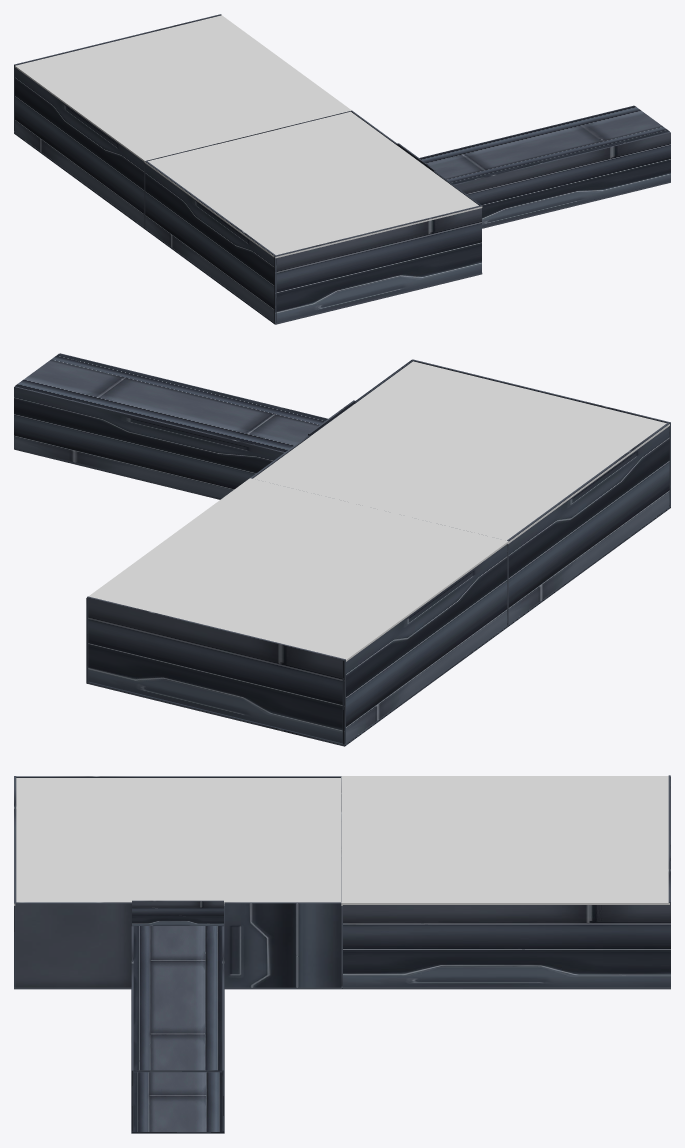
File: Facility level part 02.fbx
3 renders of one model, top to bottom at view 1: azimuth 30°, elevation 25°; view 2: azimuth 150°, elevation 25°; view 3: azimuth 270°, elevation 25°, orthographic. The views are drawn at different scales.
Parts seen in each view (by area): view 1: Cube.010, Cube.006, Cube.003, Cube.030, Cube.002, Cube.004, Cube.032, Cube, Cube.015; view 2: Cube.010, Cube.006, Cube.015, Cube.031, Cube.002, Cube.004, Cube.032, Cube.008, Cube.003; view 3: Cube.010, Cube.006, Cube.009, Cube.005, Cube.032, Cube.024, Cube.007, Cube.008, Cube, Cube.002, Cube.030, Cube.031 (+1 smaller).
Boxes of the visible parts, x1,y1,x2,y2 form: Cube.010: (15, 15, 351, 161); Cube.006: (144, 111, 482, 258); Cube.003: (274, 205, 481, 322); Cube.030: (454, 132, 670, 226); Cube.002: (145, 160, 276, 323); Cube.004: (14, 67, 144, 226); Cube.032: (420, 106, 669, 184); Cube: (144, 228, 482, 324); Cube.015: (14, 14, 221, 131); Cube.010: (88, 478, 508, 661); Cube.006: (253, 361, 669, 543); Cube.015: (87, 596, 345, 743); Cube.031: (14, 386, 284, 498); Cube.002: (507, 422, 669, 624); Cube.004: (342, 544, 507, 744); Cube.032: (15, 353, 327, 451); Cube.008: (86, 625, 507, 746); Cube.003: (412, 359, 670, 506); Cube.010: (341, 776, 669, 904); Cube.006: (14, 778, 342, 905); Cube.009: (343, 902, 670, 987); Cube.005: (15, 902, 341, 987); Cube.032: (133, 926, 222, 1072); Cube.024: (131, 987, 224, 1133); Cube.007: (132, 900, 223, 926); Cube.008: (342, 861, 670, 989); Cube: (14, 906, 342, 989); Cube.002: (16, 776, 341, 777); Cube.030: (131, 926, 133, 1131); Cube.031: (222, 926, 224, 1131).
Size of the model in its own units: 5846 by 883 by 5979.
